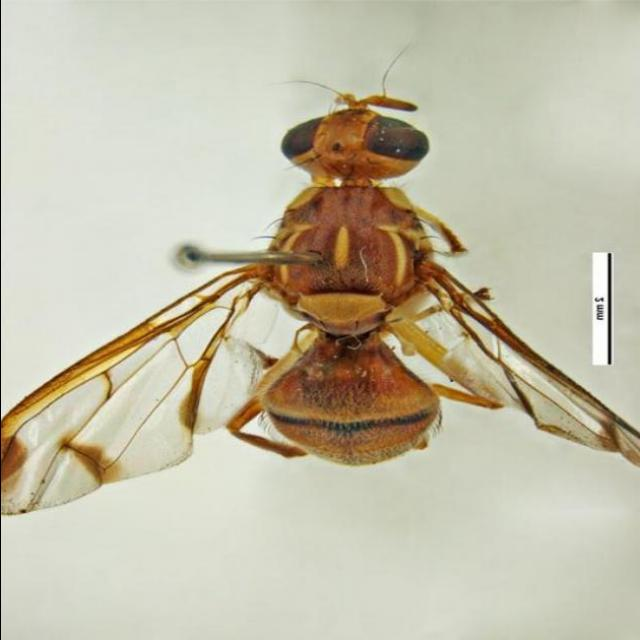Fruit fly: (0, 85, 640, 527)
